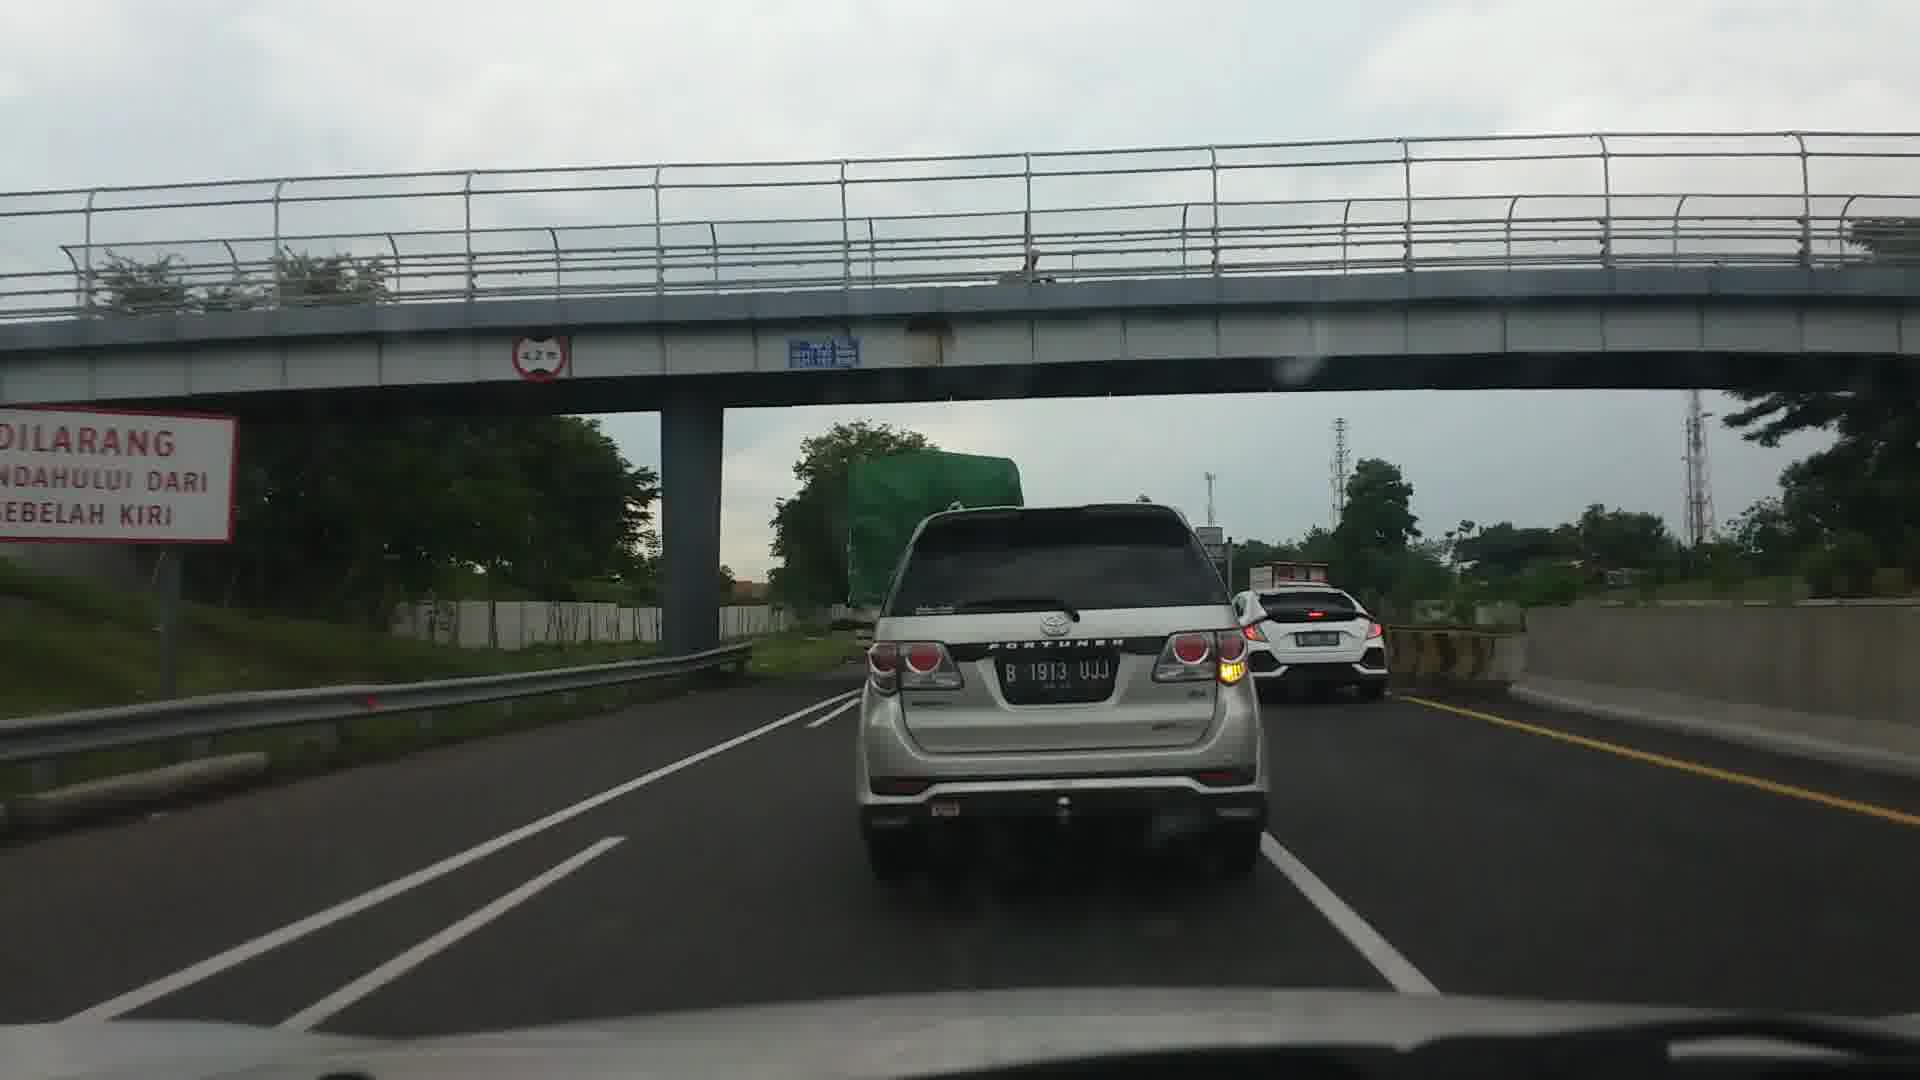plate_positive: (1002, 655, 1114, 688)
